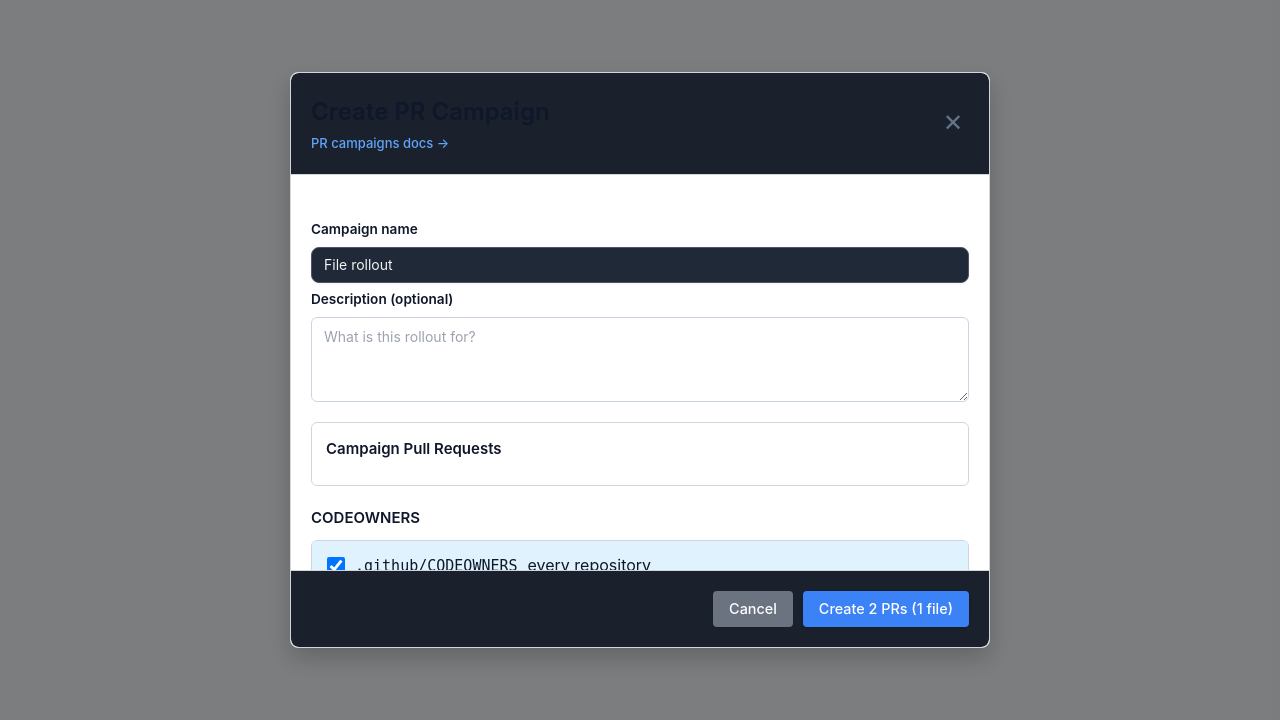
Test: CreatePRModal › CODEOWNERS › its progress lists the file it carries, and no empty workflow list
The image size is (1280, 720).
Click the button "Create 2 PRs (1 file)".
click(886, 609)  # box [803,591,969,627]
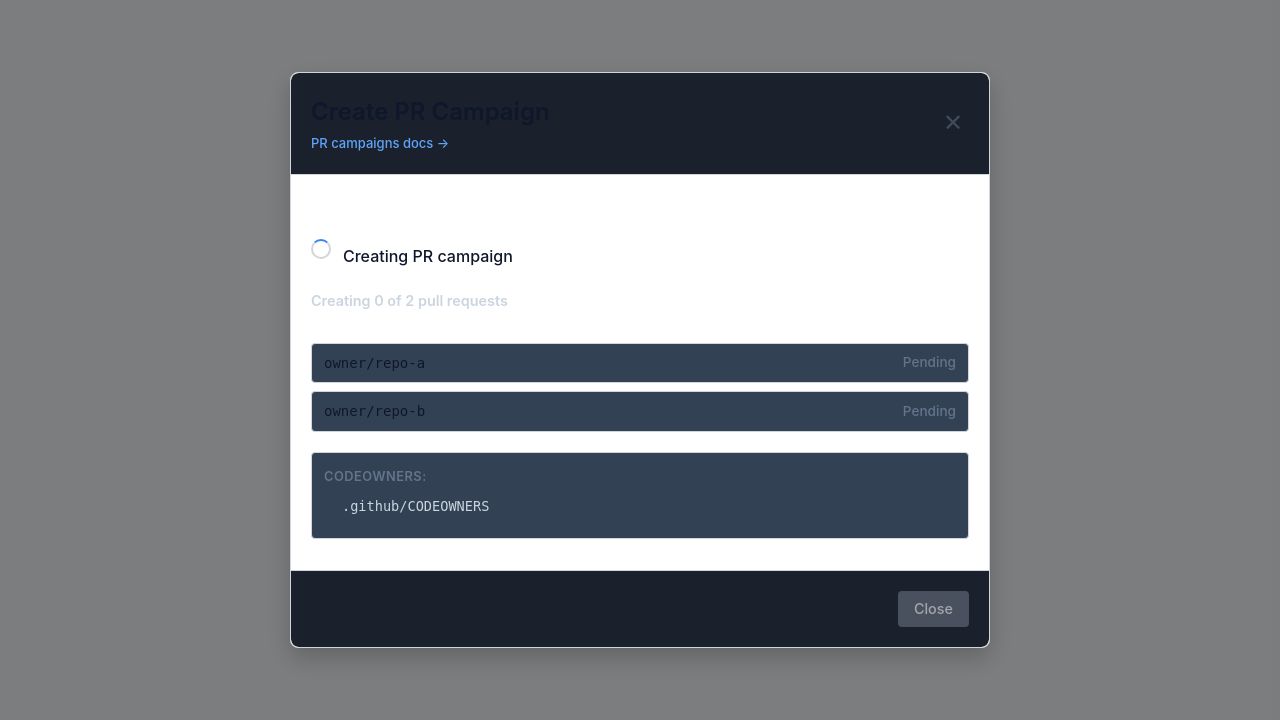
Expected: the element with test id "pr-creation-progress" does not show "Workflow files:", [311,219,969,559]
Expected: the element with test id "pr-creation-progress" shows "CODEOWNERS:", [324,469,427,484]
Expected: the element with test id "pr-creation-progress" shows ".github/CODEOWNERS", [342,498,489,514]
